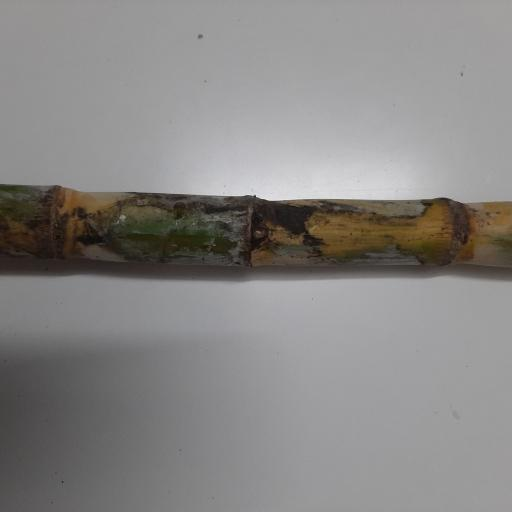Bud: (250, 224, 272, 246)
